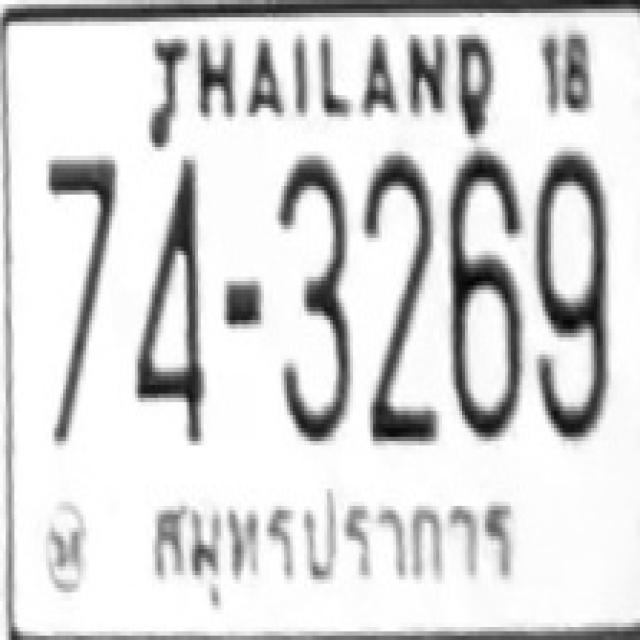2: (360, 151, 432, 441)
3: (274, 151, 349, 437)
4: (129, 151, 204, 437)
6: (446, 147, 521, 437)
7: (45, 151, 116, 441)
9: (534, 147, 608, 437)
SPK: (149, 477, 522, 602)
